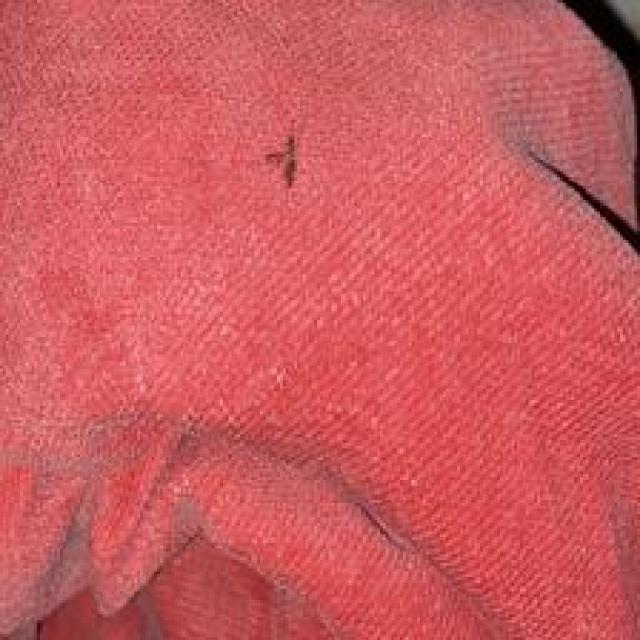Culex: (266, 133, 300, 187)
